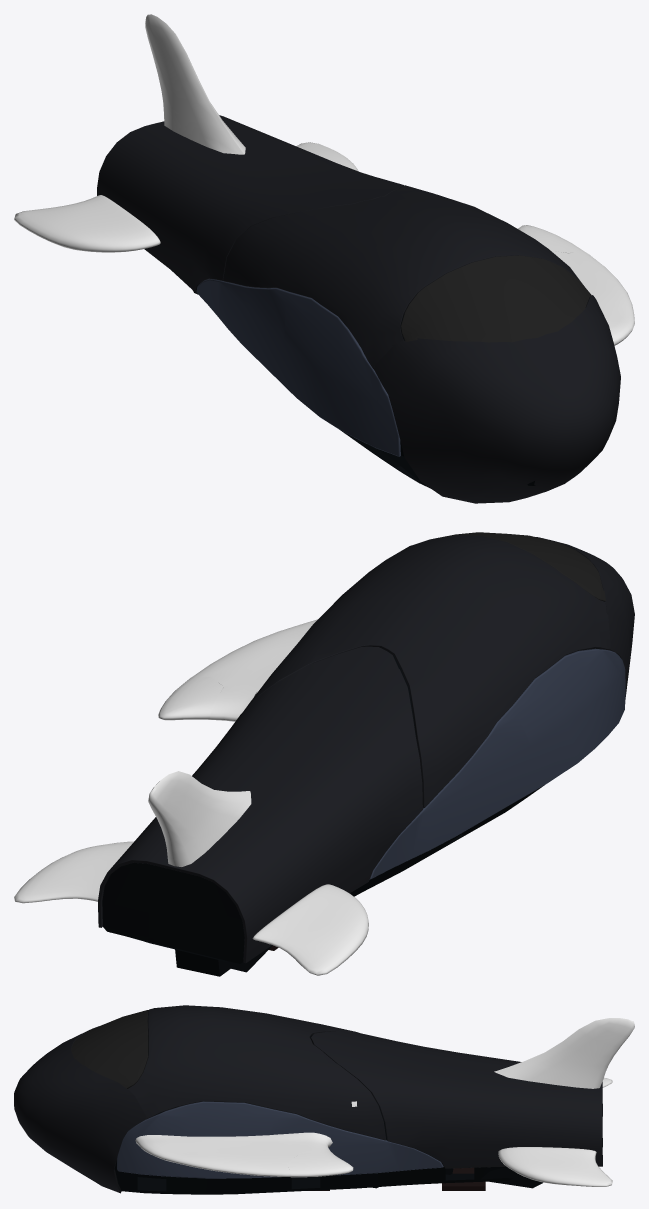
File: fishDrone_234.fbx
3 views of the same model, one above another, from view 1: azimuth 30°, elevation 25°; view 2: azimuth 150°, elevation 25°; view 3: azimuth 270°, elevation 25° (orthographic). The views are drawn at different scales.
Visible parts, largest first — view 1: Front Plate, CenterPlate Top.002, Front Plate.004, Front Plate.001, CenterPlate Top, Front Plate.002_Piece, Fin, MainWing.006, Body, MainWing; view 2: Front Plate.004, CenterPlate Top.002, Front Plate.001, Body, Front Plate.002_Piece, Fin, MainWing.006, CenterPlate Top, Front Plate, MainWing, Cube.003; view 3: Front Plate.004, CenterPlate Top.002, Front Plate, Front Plate.001, Body, MainWing.006, Fin, CenterPlate Top, Front Plate.002_Piece, MainWing, Cube.012, Cube.003.
Boxes of the visible parts, bbox=[...] form: Front Plate: bbox=[374, 295, 620, 503]; CenterPlate Top.002: bbox=[223, 185, 591, 368]; Front Plate.004: bbox=[97, 115, 404, 292]; Front Plate.001: bbox=[196, 278, 400, 456]; CenterPlate Top: bbox=[401, 255, 591, 342]; Front Plate.002_Piece: bbox=[14, 142, 358, 252]; Fin: bbox=[145, 14, 245, 154]; MainWing.006: bbox=[551, 251, 634, 345]; Body: bbox=[339, 307, 535, 488]; MainWing: bbox=[518, 225, 583, 253]; Front Plate.004: bbox=[98, 646, 422, 963]; CenterPlate Top.002: bbox=[244, 535, 610, 807]; Front Plate.001: bbox=[369, 648, 625, 879]; Body: bbox=[102, 648, 601, 963]; Front Plate.002_Piece: bbox=[14, 841, 368, 975]; Fin: bbox=[148, 771, 251, 866]; MainWing.006: bbox=[187, 619, 317, 721]; CenterPlate Top: bbox=[436, 532, 605, 601]; Front Plate: bbox=[536, 537, 634, 699]; MainWing: bbox=[158, 676, 223, 720]; Cube.003: bbox=[175, 945, 272, 976]; Front Plate.004: bbox=[310, 1031, 602, 1168]; CenterPlate Top.002: bbox=[127, 1005, 386, 1140]; Front Plate: bbox=[14, 1026, 146, 1193]; Front Plate.001: bbox=[117, 1101, 443, 1178]; Body: bbox=[44, 1015, 602, 1194]; MainWing.006: bbox=[135, 1132, 333, 1176]; Fin: bbox=[494, 1018, 634, 1088]; CenterPlate Top: bbox=[71, 1010, 148, 1088]; Front Plate.002_Piece: bbox=[498, 1077, 612, 1186]; MainWing: bbox=[287, 1152, 353, 1177]; Cube.012: bbox=[308, 1167, 485, 1190]; Cube.003: bbox=[372, 1168, 542, 1188].
Size of the model in its own units: 3.84 by 7.99 by 2.41.
